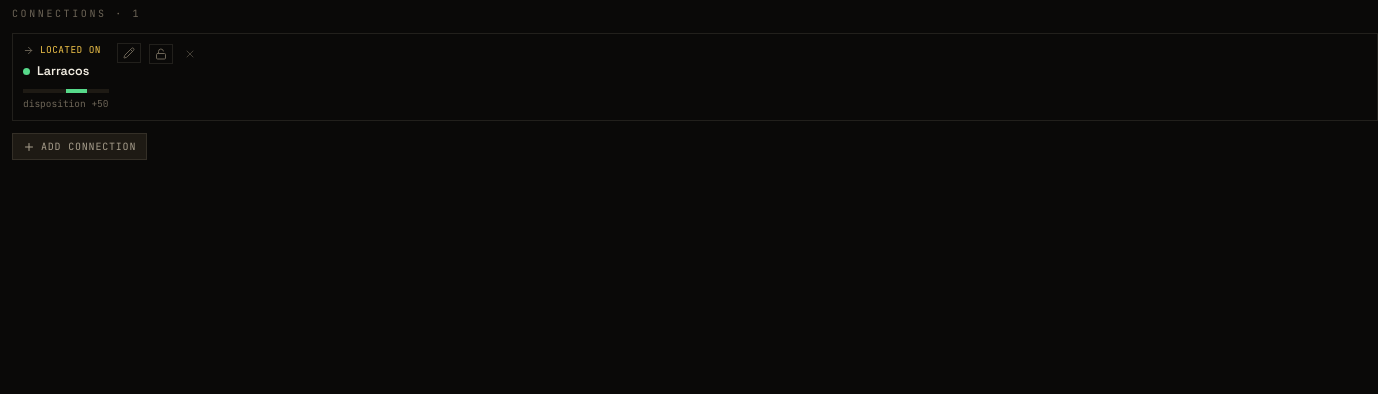
ConnectionsPanel › keeps an existing crawler→FLOOR LOCATED_ON type selectable when editing (ADR 0008 §3)
Step 1. Click the button named "Edit connection" → (128, 53), box [116,43,140,63]
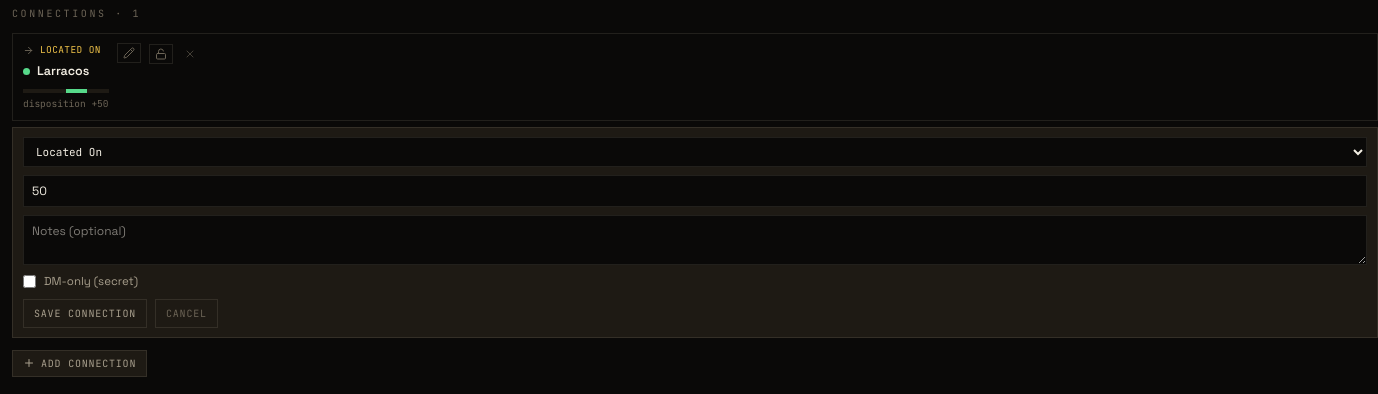
Expected: the dropdown named "Relationship type" shows "Located On", [23,137,1367,167]
